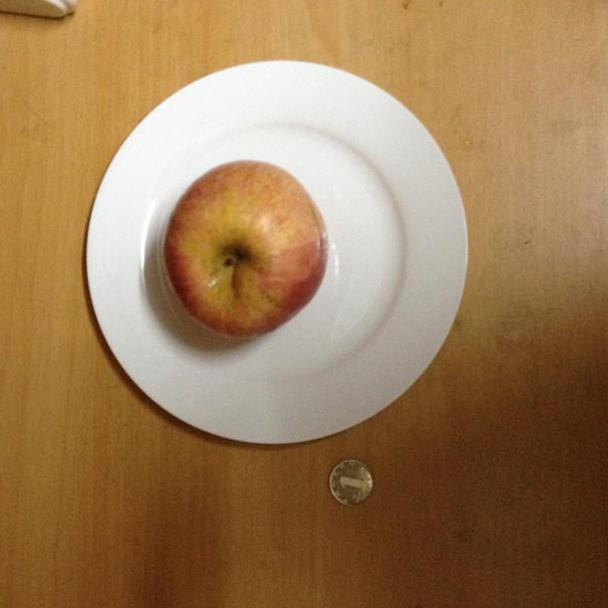apple: (165, 161, 329, 339)
